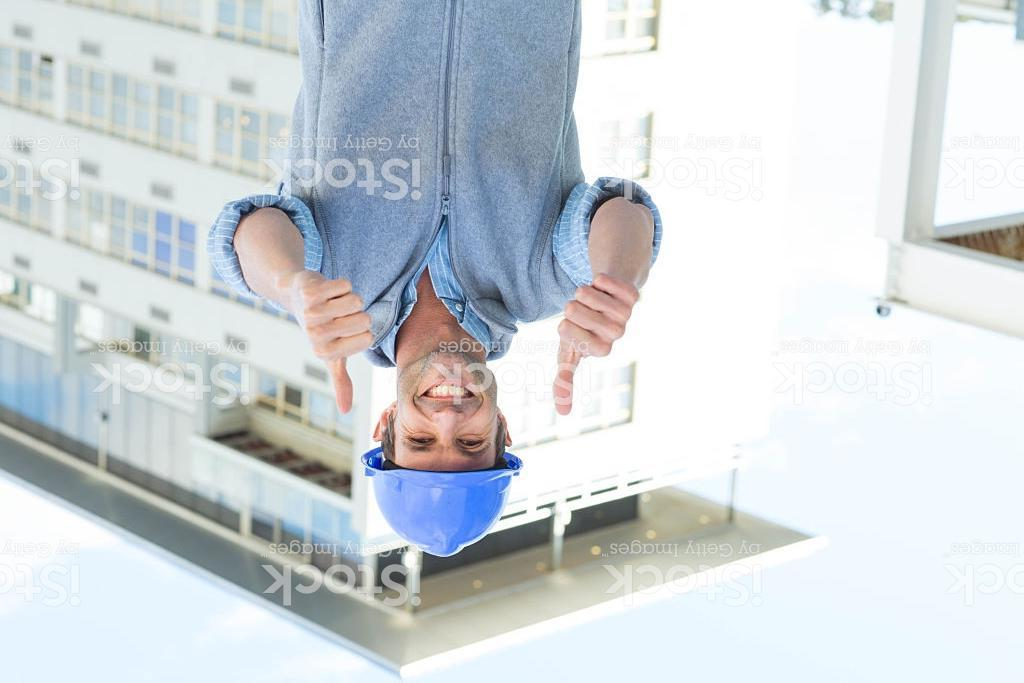thumbsdown: (553, 273, 642, 418), (294, 273, 378, 415)
